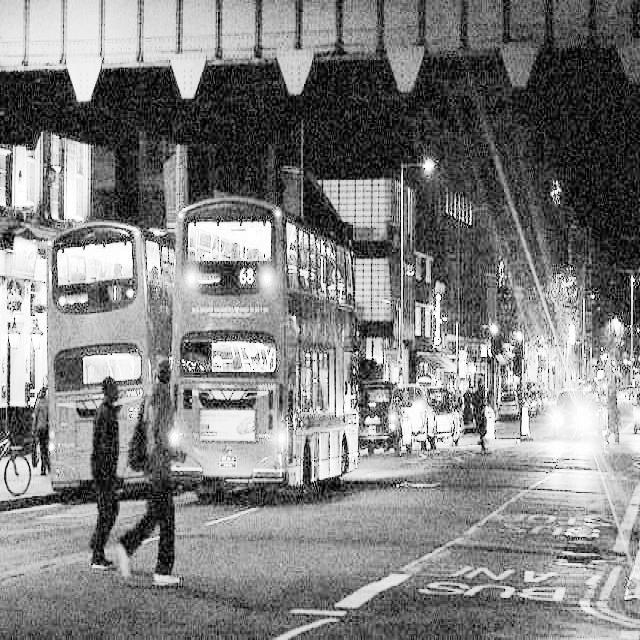Bicycle: (0, 389, 50, 521)
Bus: (178, 178, 362, 496), (41, 199, 175, 503)
Car: (403, 358, 443, 460), (362, 364, 403, 462), (552, 379, 601, 454), (419, 361, 458, 455)
Person: (143, 350, 210, 638), (83, 360, 150, 604)
